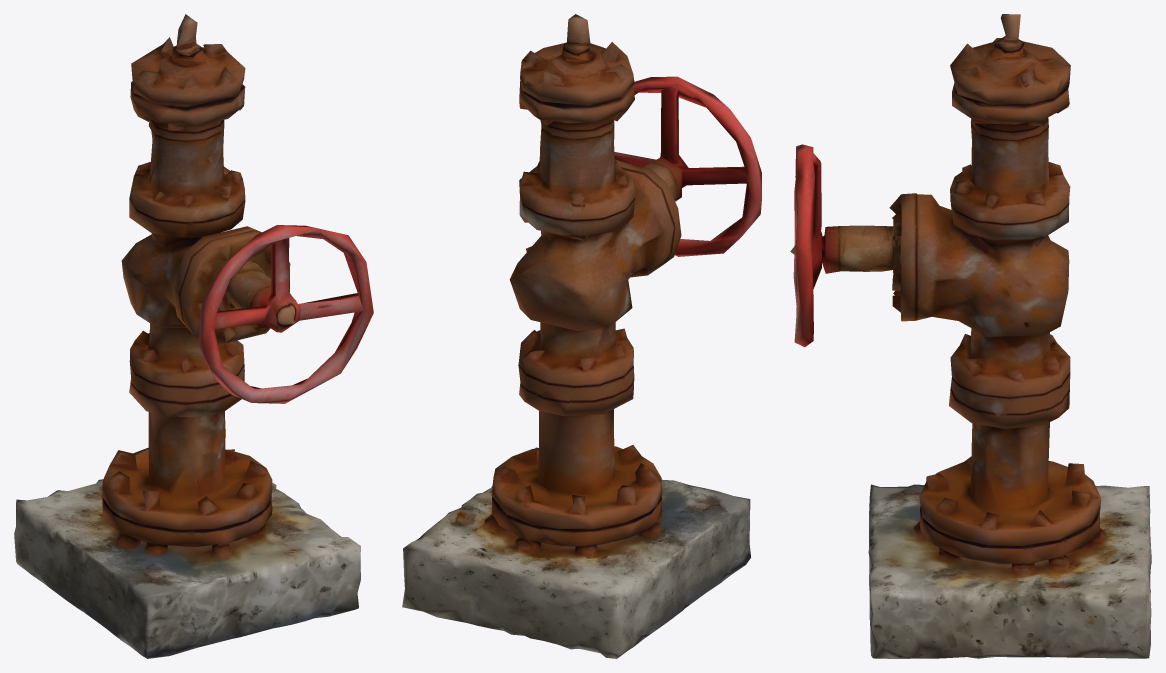
Rendered from valve_stand.glb.
The picture shows the model from 3 angles, left to right: view 1: azimuth 30°, elevation 25°; view 2: azimuth 150°, elevation 25°; view 3: azimuth 270°, elevation 25°; orthographic projection. The views are drawn at different scales.
Parts seen in each view (by area): view 1: valve_stand; view 2: valve_stand; view 3: valve_stand.
Part boxes in pixels (box(x1,y1,x2,y2)): valve_stand: box(14, 14, 373, 658); valve_stand: box(402, 14, 761, 658); valve_stand: box(790, 14, 1151, 658).
Bounding box in the file's own units: 0.6052 × 1.5 × 0.8285.
Materials: 1 (1 with a texture image).
